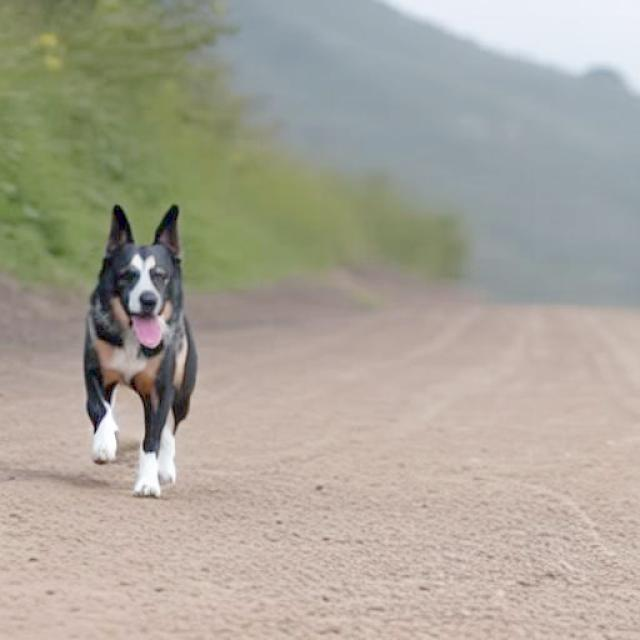Dog: (84, 203, 200, 498)
